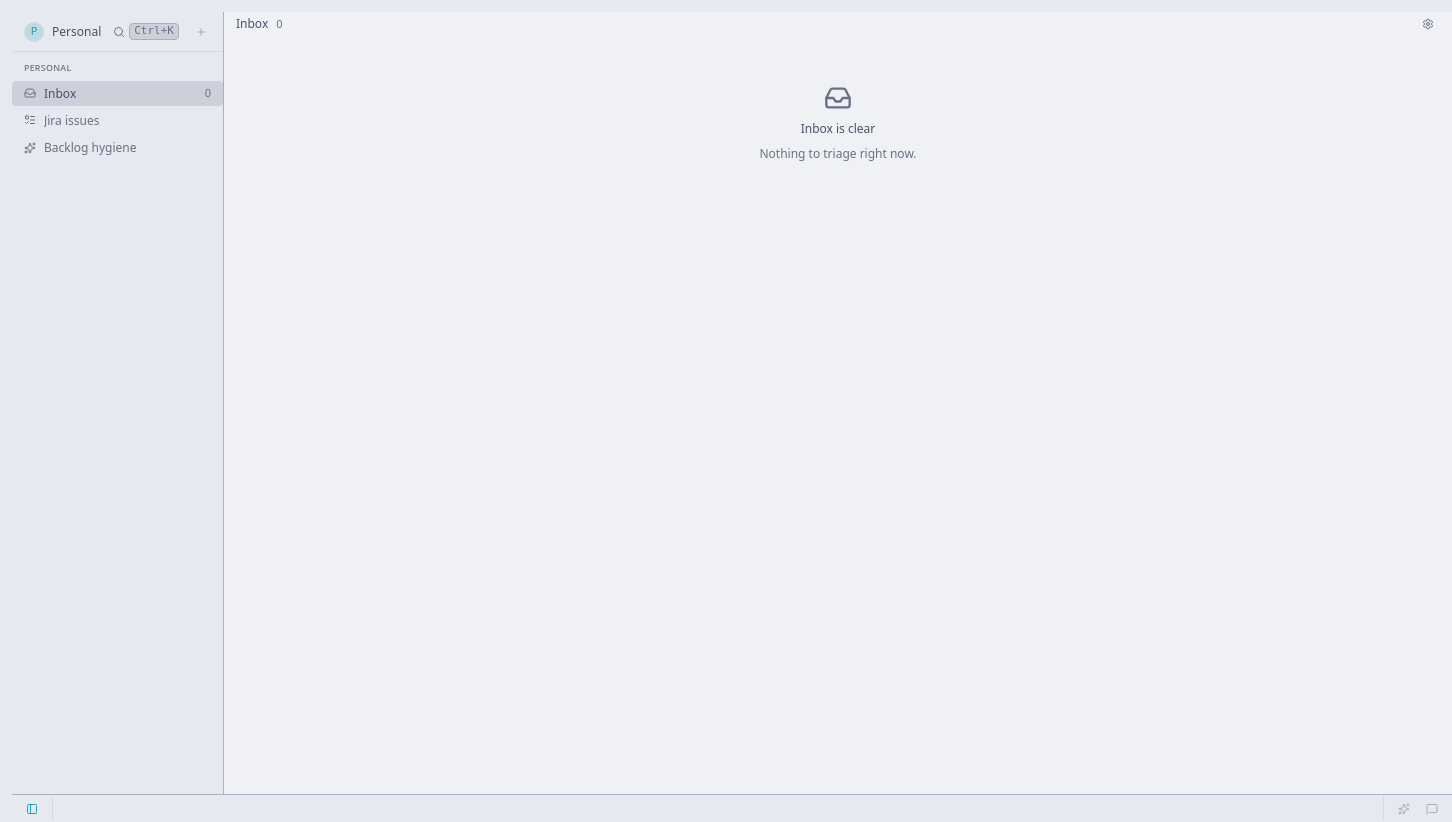
Scenario: App › flips into the settings page mode when opener is clicked
Click the button named "open settings" at (1428, 24), box [1416, 12, 1440, 36]
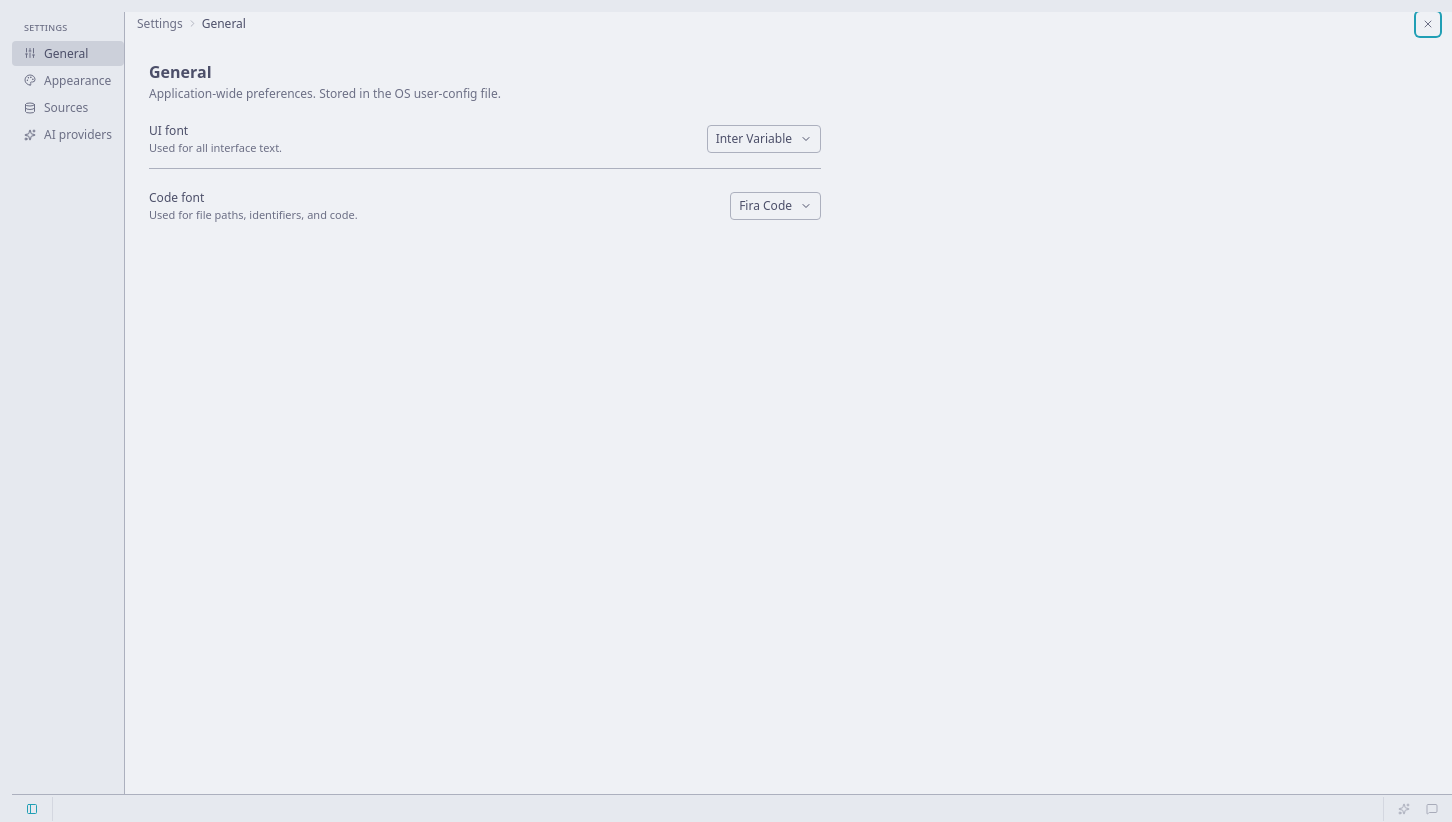
Expected: the button named "Close settings" is shown, [1416, 12, 1440, 36]
Expected: the heading "General" is shown, [149, 61, 212, 83]
